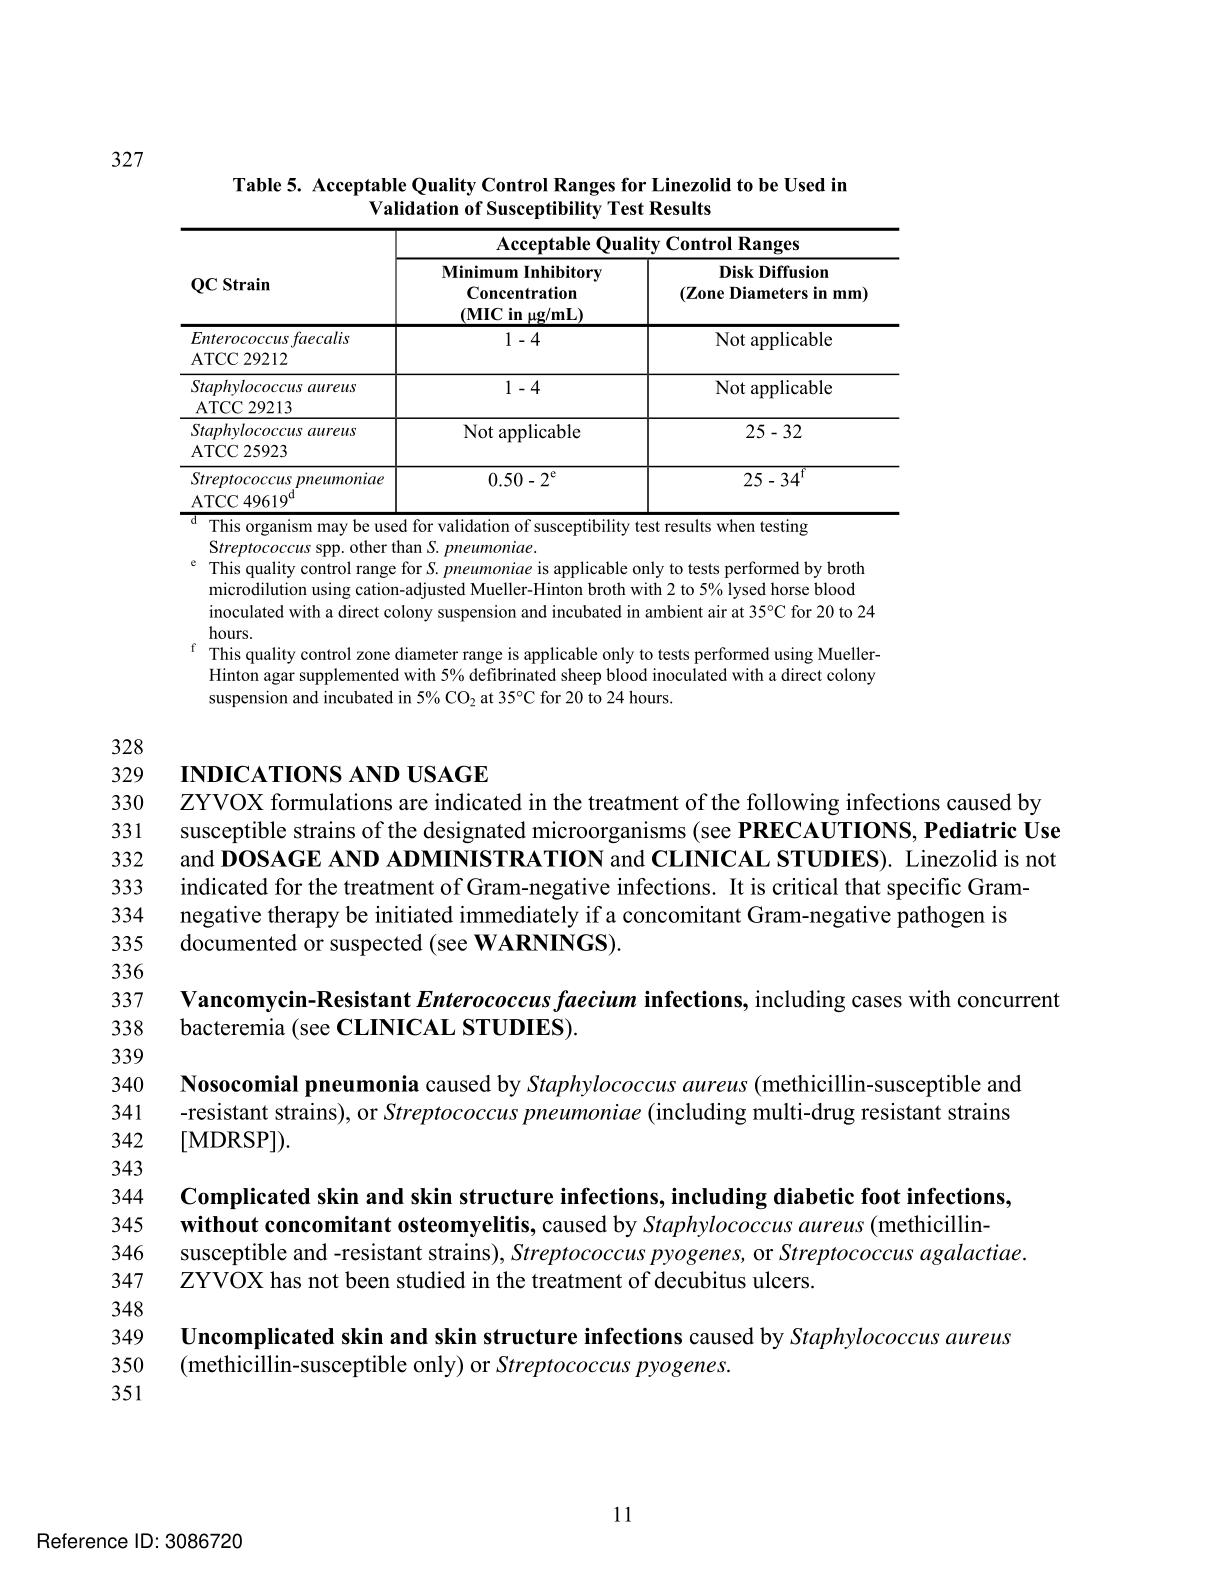partial_lined_merged_cells: (177, 225, 903, 517)
